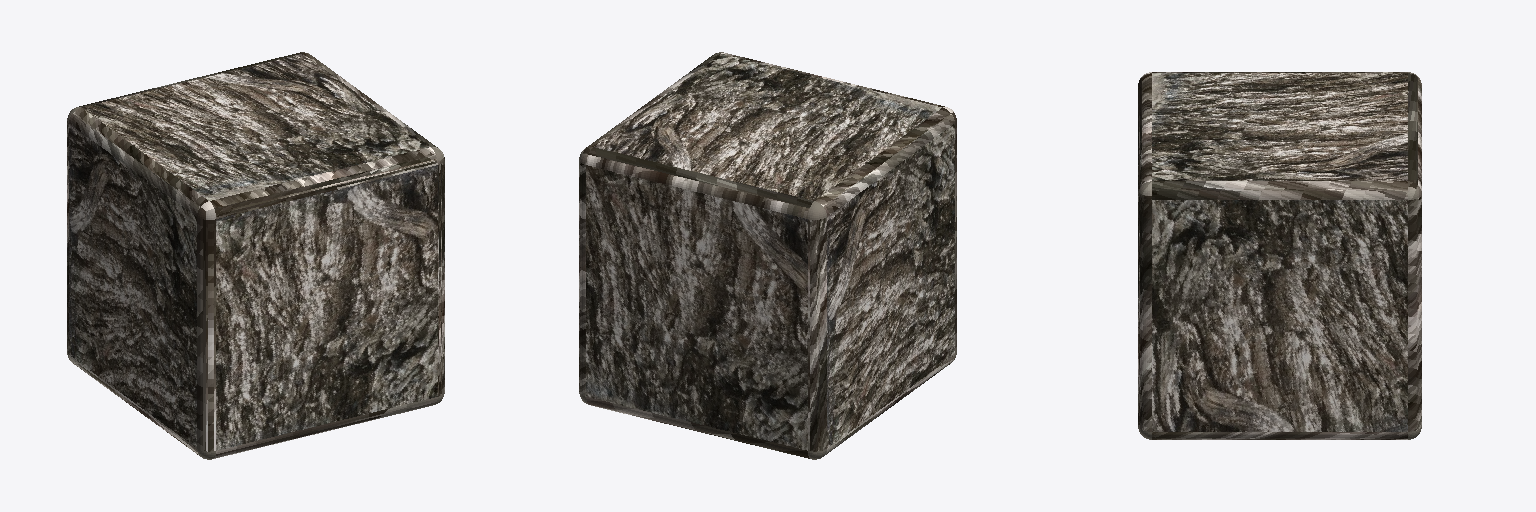
3 renders of one model, left to right at view 1: azimuth 30°, elevation 25°; view 2: azimuth 150°, elevation 25°; view 3: azimuth 270°, elevation 25°, orthographic.
Visible parts, largest first — view 1: Cube; view 2: Cube; view 3: Cube.
Part boxes in pixels (left/top/right/bottom): Cube: left=67, top=52, right=444, bottom=459; Cube: left=579, top=52, right=956, bottom=459; Cube: left=1138, top=72, right=1421, bottom=439.
Size of the model in its own units: 2 by 2 by 2.
Materials: 1 (1 with a texture image).